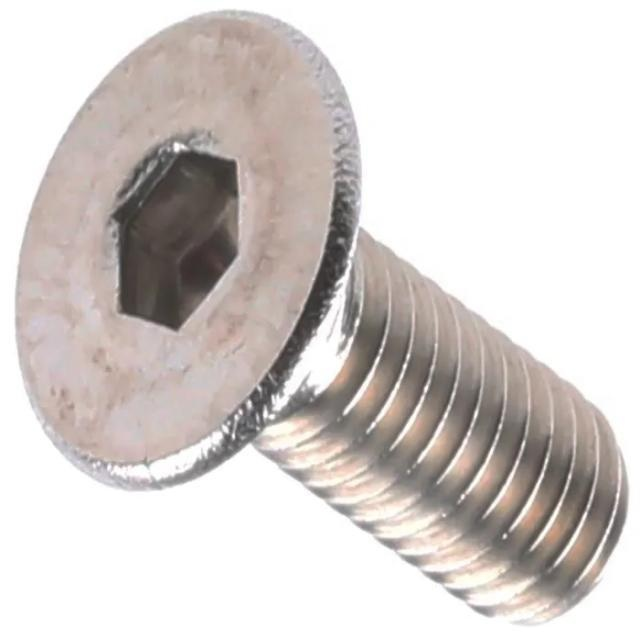allen: (12, 5, 364, 493)
